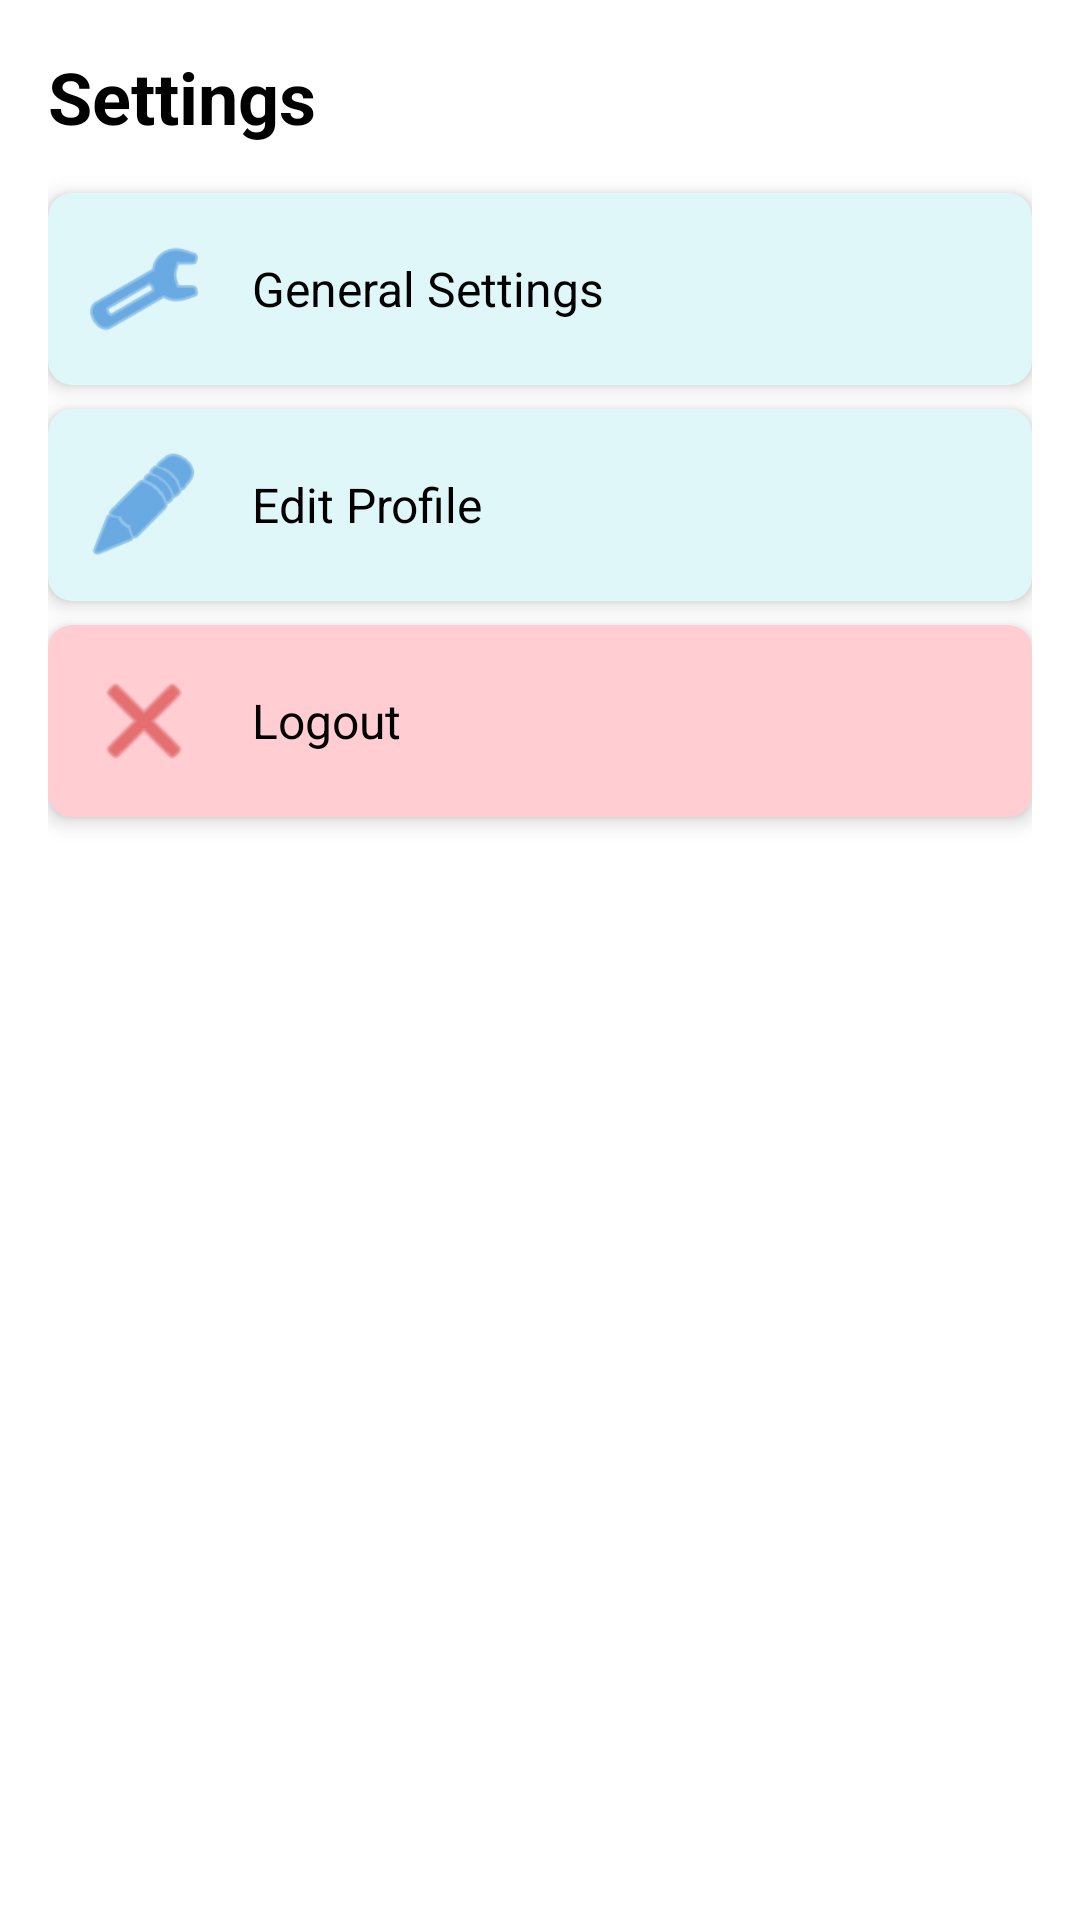

Icons on this 1080w x 1920h Android screen, each with the point to tap as (x,y):
close clear cancel: (144,721)
preferences: (144,289)
